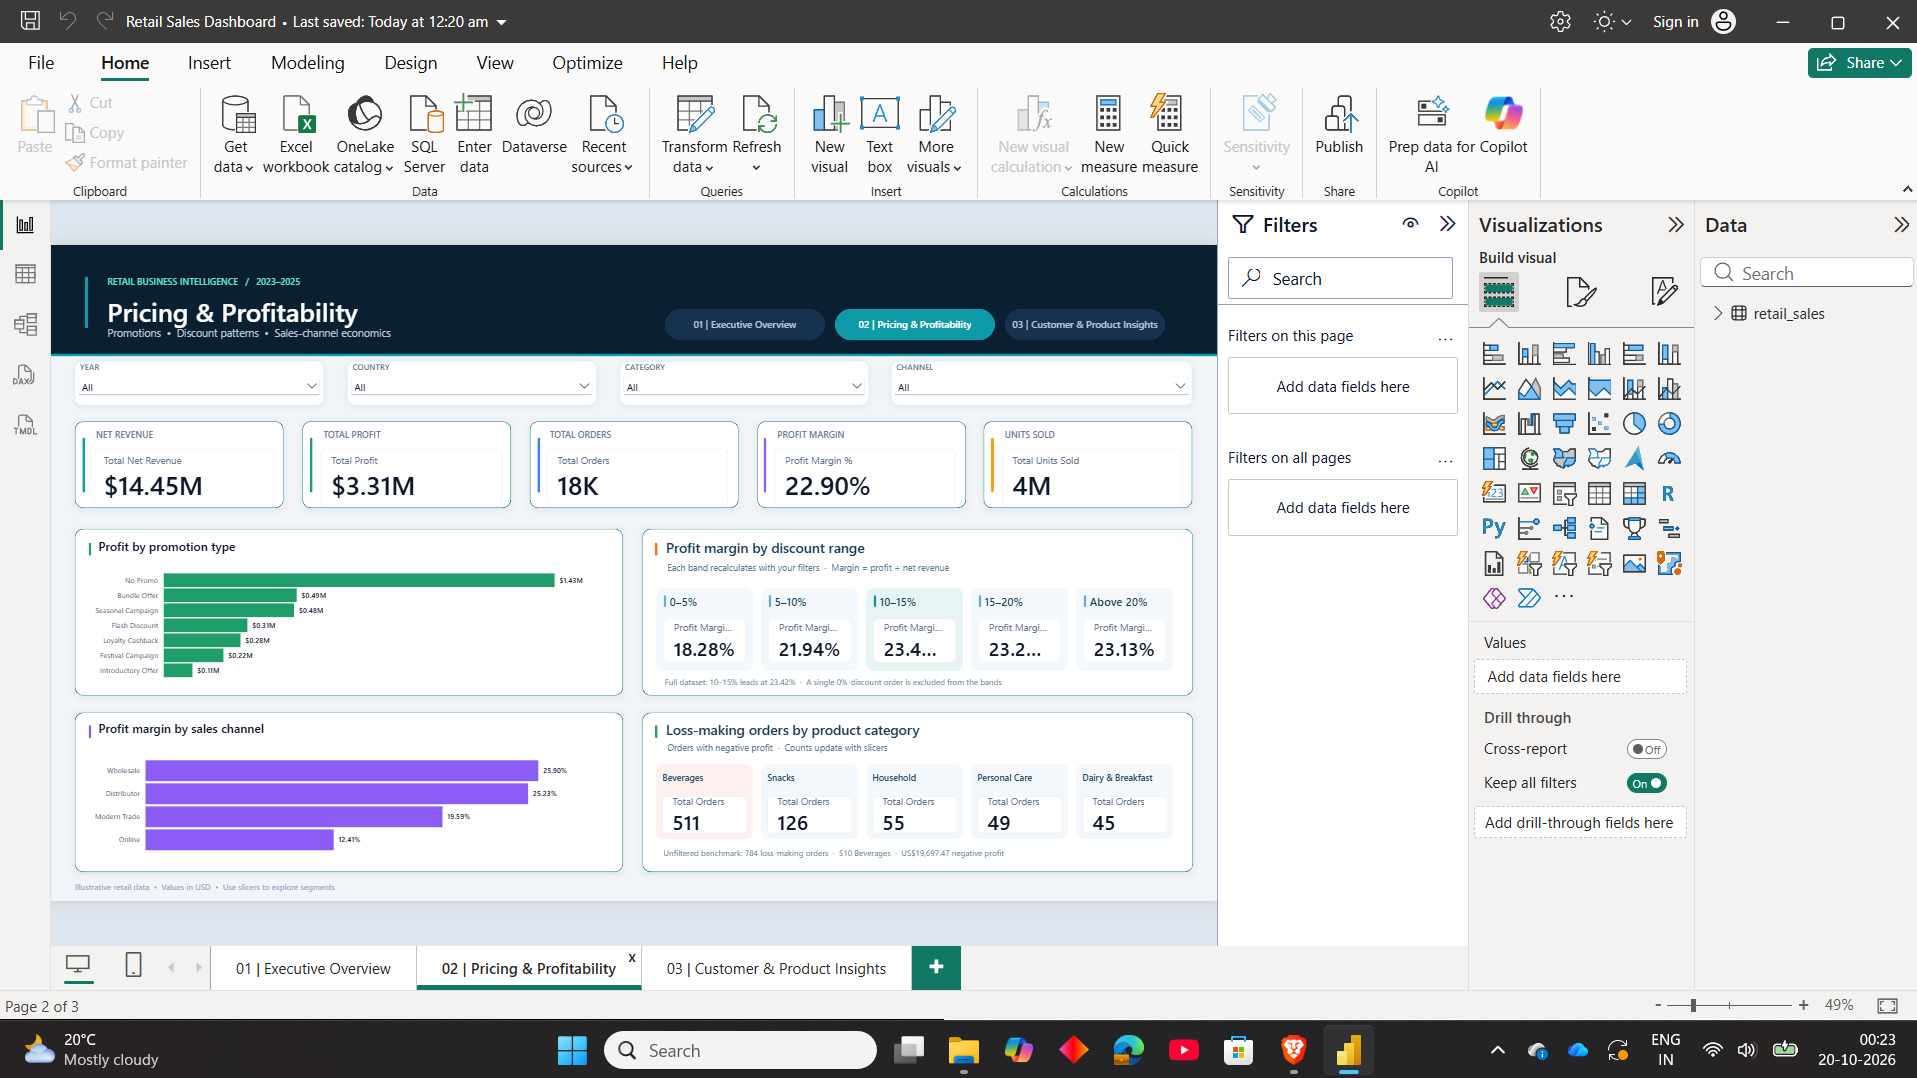

This screenshot's page, from the dashboard's own definition file:
{"tool":"powerbi","page":{"name":"02 | Pricing & Profitability","canvas":[1920,1080],"ordinal":1},"visuals":[{"type":"shape","box":[0,0,1920,180],"z":100},{"type":"shape","box":[0,180,1920,4],"z":120},{"type":"shape","box":[40,467,903,275],"z":140},{"type":"shape","box":[973,467,907,275],"z":140},{"type":"shape","box":[40,769,903,263],"z":140},{"type":"shape","box":[973,769,907,263],"z":140},{"type":"shape","box":[56,52,6,86],"z":150},{"type":"shape","box":[40,291,344,143],"z":150},{"type":"shape","box":[414,291,344,143],"z":150},{"type":"shape","box":[788,291,344,143],"z":150},{"type":"shape","box":[1162,291,344,143],"z":150},{"type":"shape","box":[1536,291,344,143],"z":150},{"type":"shape","box":[52,317,5,91],"z":180},{"type":"shape","box":[426,317,5,91],"z":180},{"type":"shape","box":[800,317,5,91],"z":180},{"type":"shape","box":[1174,317,5,91],"z":180},{"type":"shape","box":[1548,317,5,91],"z":180},{"type":"shape","box":[62,489,5,22],"z":185},{"type":"shape","box":[995,489,5,22],"z":185},{"type":"shape","box":[62,791,5,22],"z":185},{"type":"shape","box":[995,791,5,22],"z":185},{"type":"textbox","box":[79,481,845,43],"z":230},{"type":"textbox","box":[79,783,845,43],"z":230},{"type":"textbox","box":[74,303,294,33],"z":250},{"type":"textbox","box":[448,303,294,33],"z":250},{"type":"textbox","box":[822,303,294,33],"z":250},{"type":"textbox","box":[1196,303,294,33],"z":250},{"type":"textbox","box":[1570,303,294,33],"z":250},{"type":"textbox","box":[40,1046,1810,28],"z":310},{"type":"textbox","box":[92,50,1000,28],"z":400},{"type":"textbox","box":[92,80,1070,59],"z":500},{"type":"textbox","box":[92,134,1010,26],"z":500},{"type":"cardVisual","fields":{"Data":["retail_sales.Total Net Revenue"]},"box":[70,336,298,94],"z":600},{"type":"cardVisual","fields":{"Data":["retail_sales.Total Profit"]},"box":[444,336,298,94],"z":600},{"type":"cardVisual","fields":{"Data":["retail_sales.Total Orders"]},"box":[818,336,298,94],"z":600},{"type":"cardVisual","fields":{"Data":["retail_sales.Profit Margin %"]},"box":[1192,336,298,94],"z":600},{"type":"cardVisual","fields":{"Data":["retail_sales.Total Units Sold"]},"box":[1566,336,298,94],"z":600},{"type":"barChart","fields":{"Category":["retail_sales.Promotion_Type"],"Y":["retail_sales.Total Profit"]},"box":[57,523,871,207],"z":700},{"type":"barChart","fields":{"Category":["retail_sales.Sales_Channel"],"Y":["retail_sales.Profit Margin %"]},"box":[57,825,871,195],"z":700},{"type":"slicer","fields":{"Values":["retail_sales.Year"]},"box":[40,192,410,73],"z":740},{"type":"slicer","fields":{"Values":["retail_sales.Country"]},"box":[488,192,410,73],"z":740},{"type":"slicer","fields":{"Values":["retail_sales.Product_Category"]},"box":[936,192,410,73],"z":740},{"type":"slicer","fields":{"Values":["retail_sales.Sales_Channel"]},"box":[1384,192,496,73],"z":740},{"type":"shape","box":[996,564,160,138],"z":940},{"type":"shape","box":[1169,564,160,138],"z":940},{"type":"shape","box":[1342,564,160,138],"z":940},{"type":"shape","box":[1515,564,160,138],"z":940},{"type":"shape","box":[1688,564,160,138],"z":940},{"type":"shape","box":[1008,576,5,20],"z":940},{"type":"shape","box":[1181,576,5,20],"z":940},{"type":"shape","box":[1354,576,5,20],"z":940},{"type":"shape","box":[1527,576,5,20],"z":940},{"type":"shape","box":[1700,576,5,20],"z":940},{"type":"shape","box":[996,855,160,125],"z":940},{"type":"shape","box":[1169,855,160,125],"z":940},{"type":"shape","box":[1342,855,160,125],"z":940},{"type":"shape","box":[1515,855,160,125],"z":940},{"type":"shape","box":[1688,855,160,125],"z":940},{"type":"textbox","box":[1012,481,820,42],"z":1150},{"type":"textbox","box":[1015,521,835,33],"z":1150},{"type":"textbox","box":[1018,574,133,34],"z":1150},{"type":"textbox","box":[1191,574,133,34],"z":1150},{"type":"textbox","box":[1364,574,133,34],"z":1150},{"type":"textbox","box":[1537,574,133,34],"z":1150},{"type":"textbox","box":[1710,574,133,34],"z":1150},{"type":"textbox","box":[1011,708,846,25],"z":1150},{"type":"textbox","box":[1012,783,800,39],"z":1150},{"type":"textbox","box":[1015,818,840,30],"z":1150},{"type":"textbox","box":[1006,867,140,35],"z":1150},{"type":"textbox","box":[1179,867,140,35],"z":1150},{"type":"textbox","box":[1352,867,140,35],"z":1150},{"type":"textbox","box":[1525,867,140,35],"z":1150},{"type":"textbox","box":[1698,867,140,35],"z":1150},{"type":"textbox","box":[1009,990,850,30],"z":1150},{"type":"pageNavigator","box":[1010,104,824,52],"z":1200},{"type":"cardVisual","fields":{"Data":["retail_sales.Profit Margin %"]},"box":[1008,615,136,72],"z":1200},{"type":"cardVisual","fields":{"Data":["retail_sales.Profit Margin %"]},"box":[1181,615,136,72],"z":1200},{"type":"cardVisual","fields":{"Data":["retail_sales.Profit Margin %"]},"box":[1354,615,136,72],"z":1200},{"type":"cardVisual","fields":{"Data":["retail_sales.Profit Margin %"]},"box":[1527,615,136,72],"z":1200},{"type":"cardVisual","fields":{"Data":["retail_sales.Profit Margin %"]},"box":[1700,615,136,72],"z":1200},{"type":"cardVisual","fields":{"Data":["retail_sales.Total Orders"]},"box":[1006,908,140,61],"z":1200},{"type":"cardVisual","fields":{"Data":["retail_sales.Total Orders"]},"box":[1179,908,140,61],"z":1200},{"type":"cardVisual","fields":{"Data":["retail_sales.Total Orders"]},"box":[1352,908,140,61],"z":1200},{"type":"cardVisual","fields":{"Data":["retail_sales.Total Orders"]},"box":[1525,908,140,61],"z":1200},{"type":"cardVisual","fields":{"Data":["retail_sales.Total Orders"]},"box":[1698,908,140,61],"z":1200}]}

Visuals, with their boxes on the page's 1920x1080 design canvas (x1, y1, x2, y2). These are canvas units, not pixel positions in the 1917x1078 screenshot, which may show the page scaled, cropped or inside an application window:
shape: bbox=[0, 0, 1920, 180]
shape: bbox=[0, 180, 1920, 184]
shape: bbox=[40, 467, 943, 742]
shape: bbox=[973, 467, 1880, 742]
shape: bbox=[40, 769, 943, 1032]
shape: bbox=[973, 769, 1880, 1032]
shape: bbox=[56, 52, 62, 138]
shape: bbox=[40, 291, 384, 434]
shape: bbox=[414, 291, 758, 434]
shape: bbox=[788, 291, 1132, 434]
shape: bbox=[1162, 291, 1506, 434]
shape: bbox=[1536, 291, 1880, 434]
shape: bbox=[52, 317, 57, 408]
shape: bbox=[426, 317, 431, 408]
shape: bbox=[800, 317, 805, 408]
shape: bbox=[1174, 317, 1179, 408]
shape: bbox=[1548, 317, 1553, 408]
shape: bbox=[62, 489, 67, 511]
shape: bbox=[995, 489, 1000, 511]
shape: bbox=[62, 791, 67, 813]
shape: bbox=[995, 791, 1000, 813]
textbox: bbox=[79, 481, 924, 524]
textbox: bbox=[79, 783, 924, 826]
textbox: bbox=[74, 303, 368, 336]
textbox: bbox=[448, 303, 742, 336]
textbox: bbox=[822, 303, 1116, 336]
textbox: bbox=[1196, 303, 1490, 336]
textbox: bbox=[1570, 303, 1864, 336]
textbox: bbox=[40, 1046, 1850, 1074]
textbox: bbox=[92, 50, 1092, 78]
textbox: bbox=[92, 80, 1162, 139]
textbox: bbox=[92, 134, 1102, 160]
cardVisual - retail_sales.Total Net Revenue: bbox=[70, 336, 368, 430]
cardVisual - retail_sales.Total Profit: bbox=[444, 336, 742, 430]
cardVisual - retail_sales.Total Orders: bbox=[818, 336, 1116, 430]
cardVisual - retail_sales.Profit Margin %: bbox=[1192, 336, 1490, 430]
cardVisual - retail_sales.Total Units Sold: bbox=[1566, 336, 1864, 430]
barChart - retail_sales.Promotion_Type x retail_sales.Total Profit: bbox=[57, 523, 928, 730]
barChart - retail_sales.Sales_Channel x retail_sales.Profit Margin %: bbox=[57, 825, 928, 1020]
slicer - retail_sales.Year: bbox=[40, 192, 450, 265]
slicer - retail_sales.Country: bbox=[488, 192, 898, 265]
slicer - retail_sales.Product_Category: bbox=[936, 192, 1346, 265]
slicer - retail_sales.Sales_Channel: bbox=[1384, 192, 1880, 265]
shape: bbox=[996, 564, 1156, 702]
shape: bbox=[1169, 564, 1329, 702]
shape: bbox=[1342, 564, 1502, 702]
shape: bbox=[1515, 564, 1675, 702]
shape: bbox=[1688, 564, 1848, 702]
shape: bbox=[1008, 576, 1013, 596]
shape: bbox=[1181, 576, 1186, 596]
shape: bbox=[1354, 576, 1359, 596]
shape: bbox=[1527, 576, 1532, 596]
shape: bbox=[1700, 576, 1705, 596]
shape: bbox=[996, 855, 1156, 980]
shape: bbox=[1169, 855, 1329, 980]
shape: bbox=[1342, 855, 1502, 980]
shape: bbox=[1515, 855, 1675, 980]
shape: bbox=[1688, 855, 1848, 980]
textbox: bbox=[1012, 481, 1832, 523]
textbox: bbox=[1015, 521, 1850, 554]
textbox: bbox=[1018, 574, 1151, 608]
textbox: bbox=[1191, 574, 1324, 608]
textbox: bbox=[1364, 574, 1497, 608]
textbox: bbox=[1537, 574, 1670, 608]
textbox: bbox=[1710, 574, 1843, 608]
textbox: bbox=[1011, 708, 1857, 733]
textbox: bbox=[1012, 783, 1812, 822]
textbox: bbox=[1015, 818, 1855, 848]
textbox: bbox=[1006, 867, 1146, 902]
textbox: bbox=[1179, 867, 1319, 902]
textbox: bbox=[1352, 867, 1492, 902]
textbox: bbox=[1525, 867, 1665, 902]
textbox: bbox=[1698, 867, 1838, 902]
textbox: bbox=[1009, 990, 1859, 1020]
pageNavigator: bbox=[1010, 104, 1834, 156]
cardVisual - retail_sales.Profit Margin %: bbox=[1008, 615, 1144, 687]
cardVisual - retail_sales.Profit Margin %: bbox=[1181, 615, 1317, 687]
cardVisual - retail_sales.Profit Margin %: bbox=[1354, 615, 1490, 687]
cardVisual - retail_sales.Profit Margin %: bbox=[1527, 615, 1663, 687]
cardVisual - retail_sales.Profit Margin %: bbox=[1700, 615, 1836, 687]
cardVisual - retail_sales.Total Orders: bbox=[1006, 908, 1146, 969]
cardVisual - retail_sales.Total Orders: bbox=[1179, 908, 1319, 969]
cardVisual - retail_sales.Total Orders: bbox=[1352, 908, 1492, 969]
cardVisual - retail_sales.Total Orders: bbox=[1525, 908, 1665, 969]
cardVisual - retail_sales.Total Orders: bbox=[1698, 908, 1838, 969]
